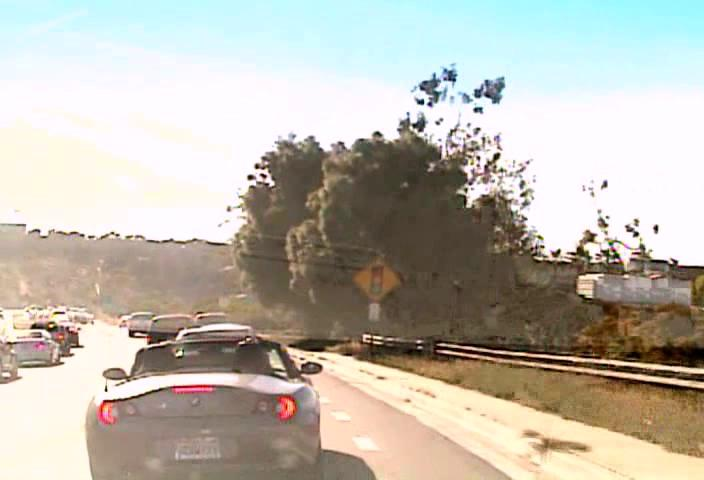signalAhead: (352, 256, 400, 301)
